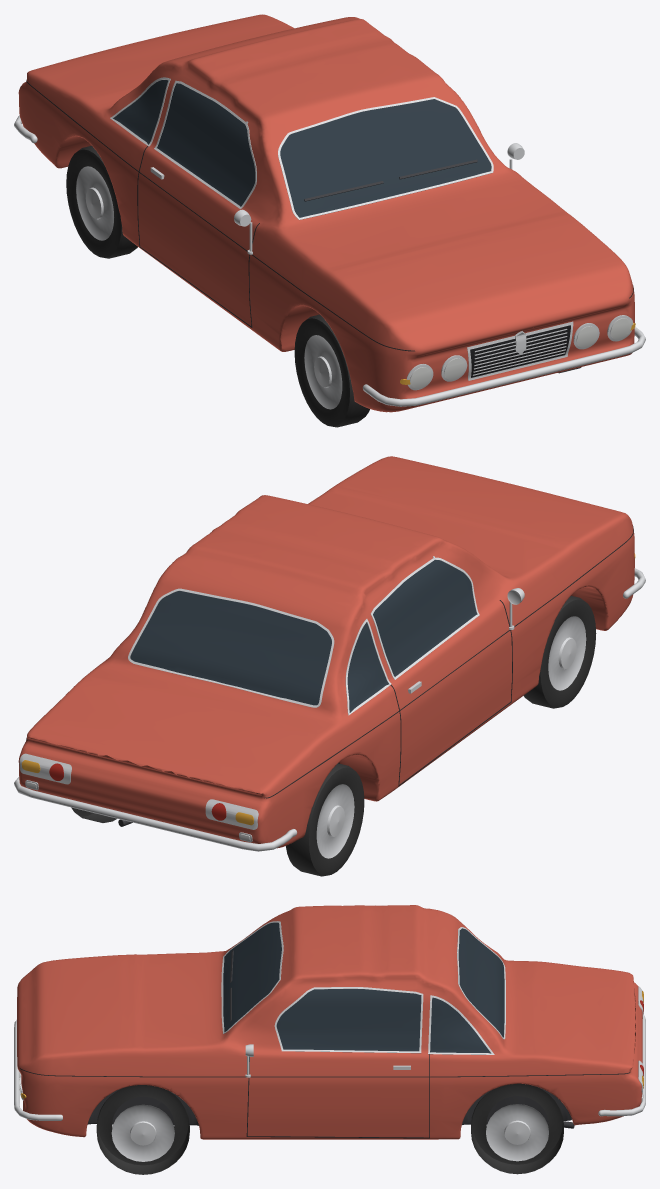
The model's file is fulvia.glb.
3 views of the same model, one above another, from view 1: azimuth 30°, elevation 25°; view 2: azimuth 150°, elevation 25°; view 3: azimuth 270°, elevation 25° (orthographic). The views are drawn at different scales.
Parts seen in each view (by area): view 1: paint, glass, trim, wheel_fr, wheel_rr, headlights, mirrors; view 2: paint, glass, trim, wheel_rr, wheel_fr; view 3: paint, glass, wheel_rl, wheel_fl, trim.
Boxes of the visible parts, bbox=[...] form: paint: bbox=[18, 14, 634, 412]; glass: bbox=[113, 80, 491, 217]; trim: bbox=[14, 77, 645, 406]; wheel_fr: bbox=[294, 314, 369, 427]; wheel_rr: bbox=[66, 145, 137, 258]; headlights: bbox=[410, 318, 631, 388]; mirrors: bbox=[234, 143, 524, 254]; paint: bbox=[18, 456, 634, 848]; glass: bbox=[130, 560, 477, 712]; trim: bbox=[14, 525, 645, 851]; wheel_rr: bbox=[285, 763, 364, 876]; wheel_fr: bbox=[524, 595, 596, 708]; paint: bbox=[17, 905, 642, 1139]; glass: bbox=[223, 922, 504, 1053]; wheel_rl: bbox=[471, 1083, 563, 1174]; wheel_fl: bbox=[96, 1085, 189, 1174]; trim: bbox=[14, 921, 645, 1138].
Bounding box in the file's own units: 1.68 × 1.31 × 3.94.
